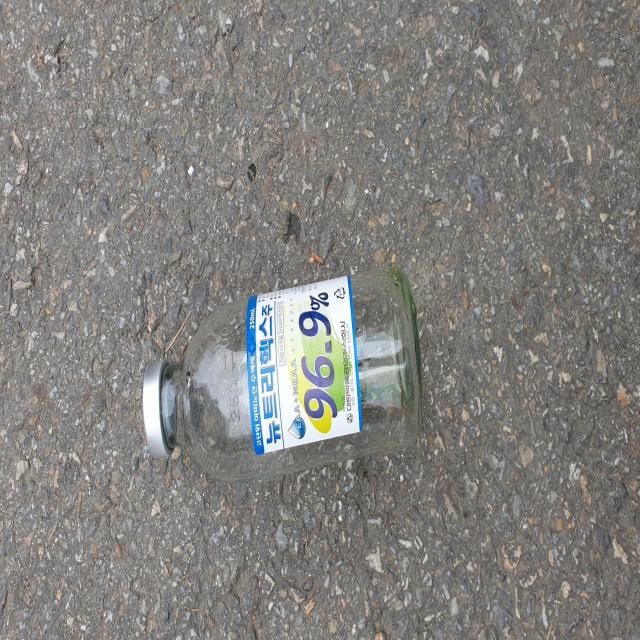glass: (143, 267, 422, 481)
